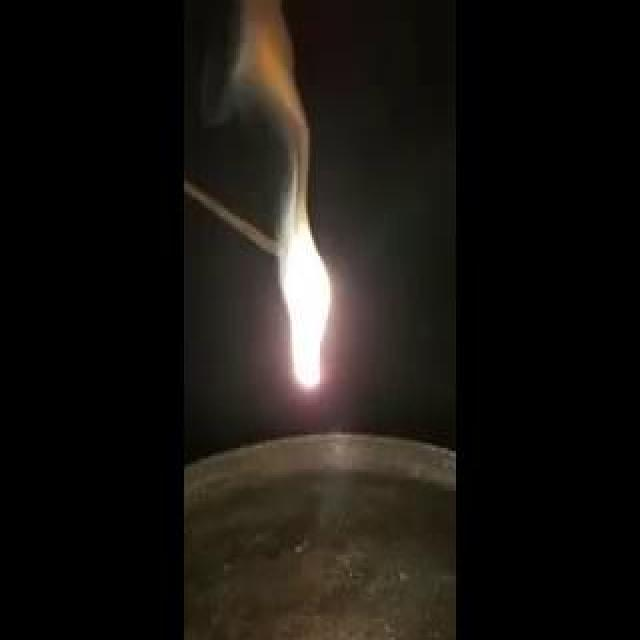Fire: (82, 256, 302, 270)
